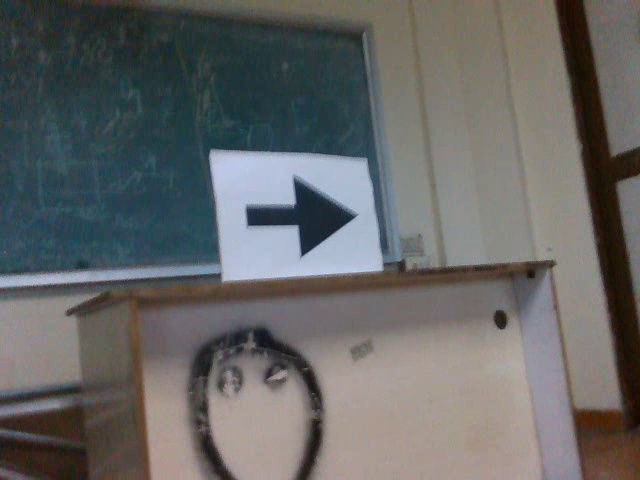Right: (237, 169, 363, 258)
